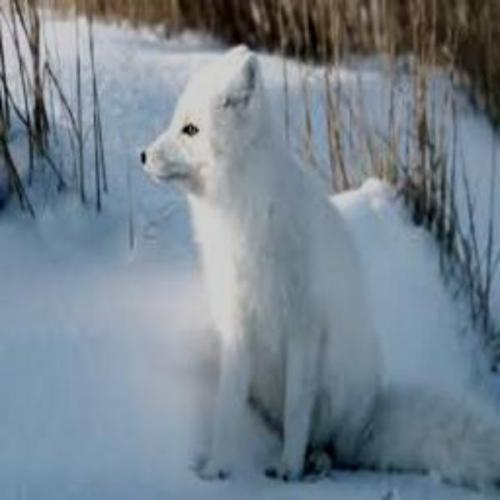arctic_fox-endangered: (138, 47, 490, 480)
